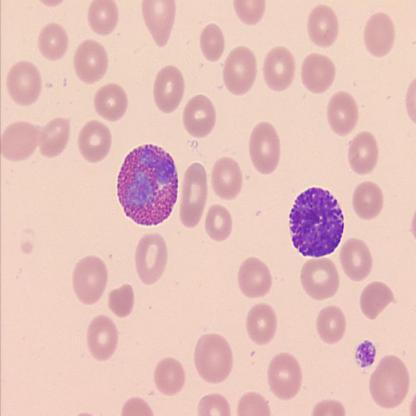Basophil: (289, 184, 346, 257)
